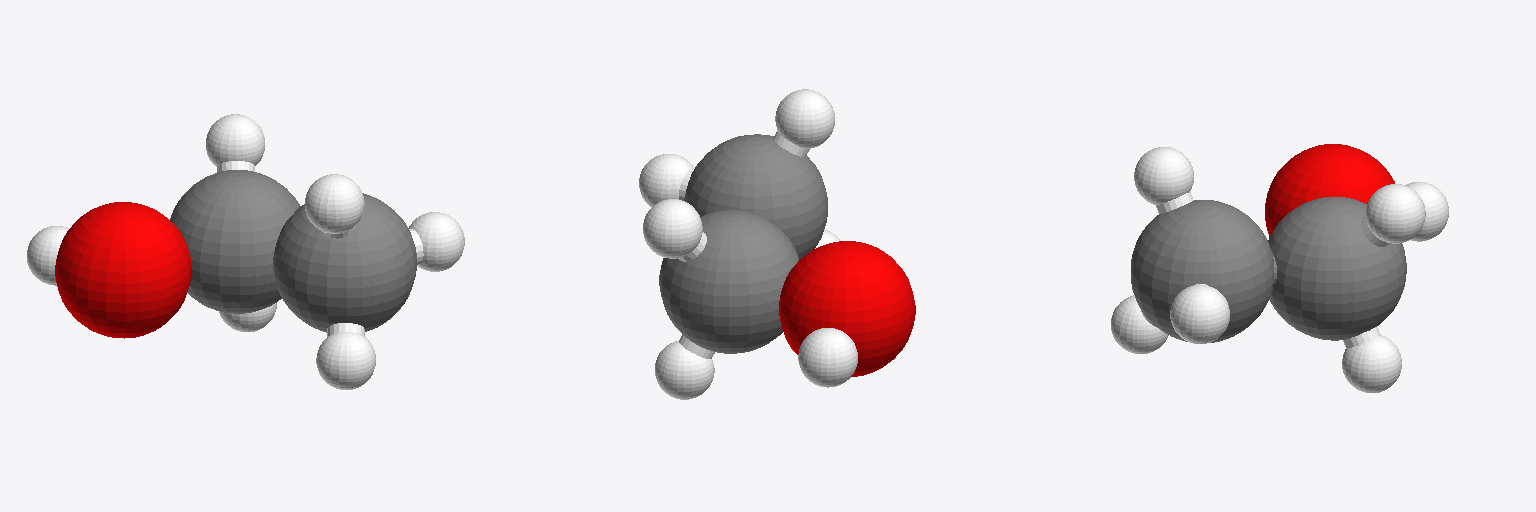
File: methanol3D.obj
The picture shows the model from 3 angles: view 1: azimuth 30°, elevation 25°; view 2: azimuth 150°, elevation 25°; view 3: azimuth 270°, elevation 25°; orthographic projection.
Visible parts, largest first — view 1: Carbon_ball_SurfSphere.001, Oxygen_ball_SurfSphere, Hydrogen_ball_SurfSphere.002, Hydrogen_sticks_cylinder; view 2: Carbon_ball_SurfSphere.001, Hydrogen_ball_SurfSphere.002, Oxygen_ball_SurfSphere, Hydrogen_sticks_cylinder; view 3: Carbon_ball_SurfSphere.001, Hydrogen_ball_SurfSphere.002, Oxygen_ball_SurfSphere, Hydrogen_sticks_cylinder.
Part boxes in pixels (bbox=[...]): Carbon_ball_SurfSphere.001: bbox=[170, 170, 416, 332]; Oxygen_ball_SurfSphere: bbox=[55, 202, 191, 338]; Hydrogen_ball_SurfSphere.002: bbox=[27, 114, 464, 389]; Hydrogen_sticks_cylinder: bbox=[217, 161, 423, 336]; Carbon_ball_SurfSphere.001: bbox=[659, 134, 827, 353]; Hydrogen_ball_SurfSphere.002: bbox=[639, 89, 857, 399]; Oxygen_ball_SurfSphere: bbox=[779, 241, 915, 376]; Hydrogen_sticks_cylinder: bbox=[678, 131, 816, 358]; Carbon_ball_SurfSphere.001: bbox=[1131, 197, 1406, 342]; Hydrogen_ball_SurfSphere.002: bbox=[1111, 147, 1448, 392]; Oxygen_ball_SurfSphere: bbox=[1265, 144, 1394, 236]; Hydrogen_sticks_cylinder: bbox=[1140, 192, 1389, 348].
Bounding box in the file's own units: 4.07 × 2.75 × 3.61.